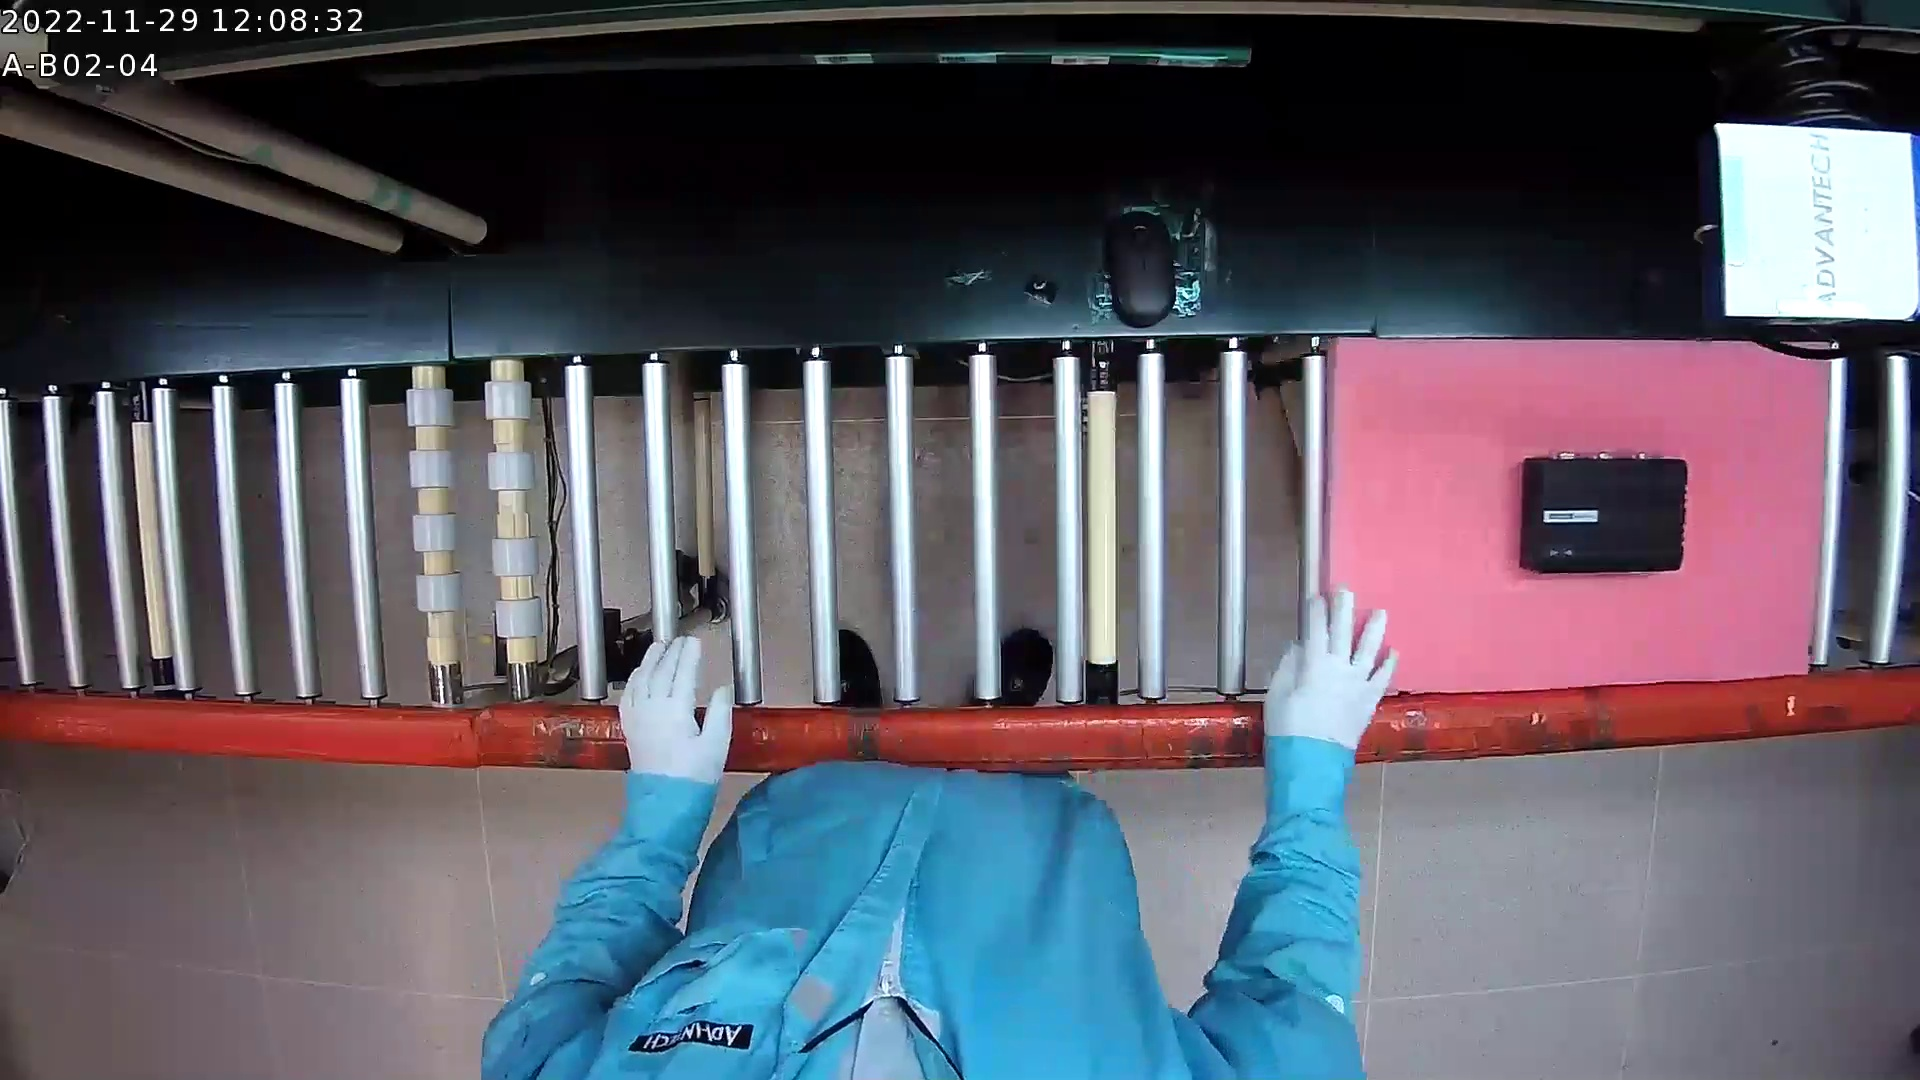foam: (1322, 322, 1841, 681)
hand: (1204, 587, 1408, 1071), (545, 634, 745, 957)
people: (463, 575, 1421, 1080)
